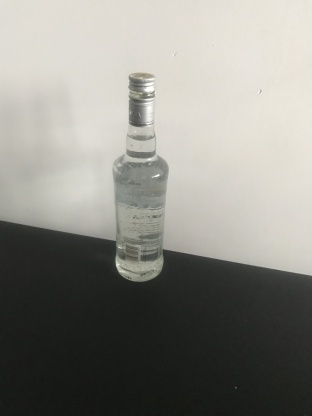nakretka: (127, 70, 157, 127)
